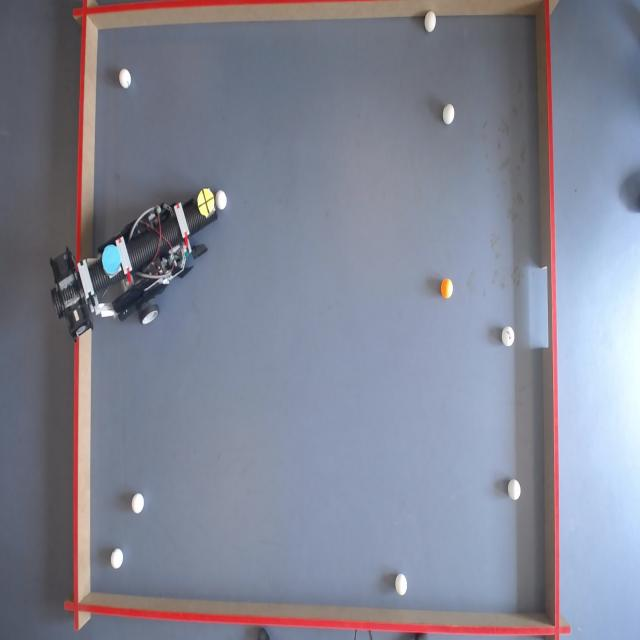orange: (440, 277, 454, 297)
robot: (52, 190, 227, 332)
robot-front: (198, 187, 215, 216)
robot-rear: (103, 243, 123, 276)
white: (131, 493, 146, 515), (395, 574, 408, 598), (110, 548, 124, 570), (508, 479, 522, 500), (442, 103, 455, 125), (118, 68, 131, 89), (214, 189, 227, 210), (424, 11, 437, 31), (502, 326, 514, 346)
